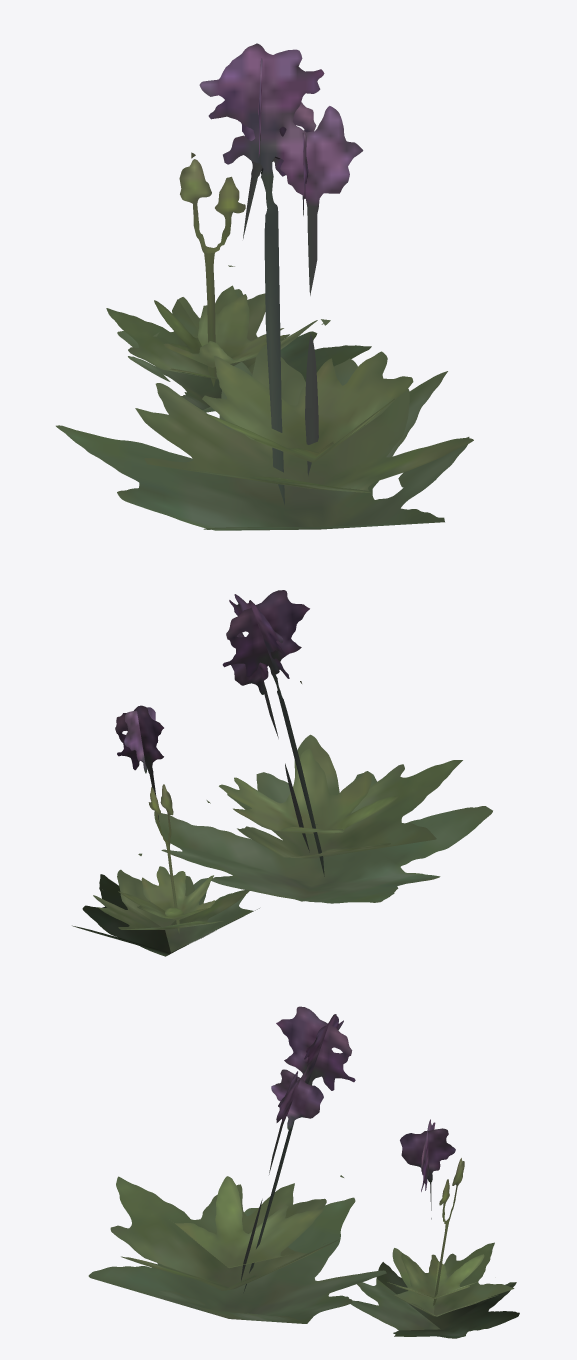
The model's file is grass.obj.
3 views of the same model, one above another, from view 1: azimuth 30°, elevation 25°; view 2: azimuth 150°, elevation 25°; view 3: azimuth 270°, elevation 25° (orthographic). The views are drawn at different scales.
Parts seen in each view (by area): view 1: ms224_5; view 2: ms224_5; view 3: ms224_5.
Part boxes in pixels (x1,y1,x2,y2): ms224_5: (56, 43, 473, 530); ms224_5: (72, 590, 492, 956); ms224_5: (88, 1006, 519, 1338).
Size of the model in its own units: 41.97 by 33.89 by 52.91.
